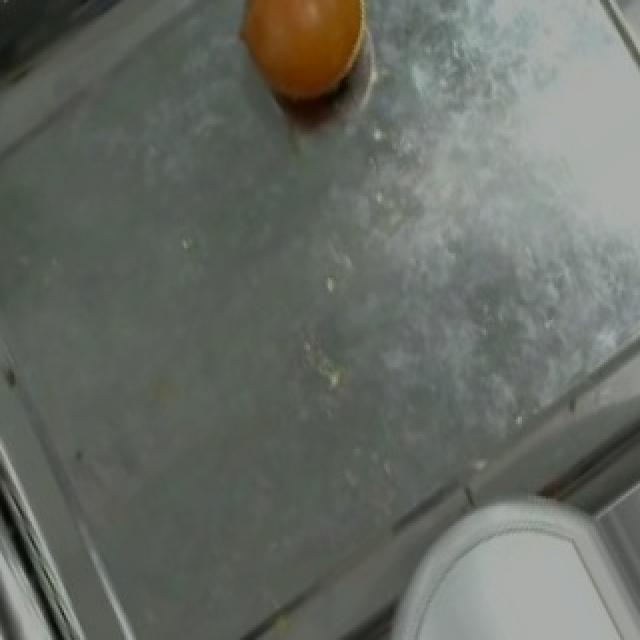Fruit: (396, 498, 638, 640), (218, 2, 400, 132)
